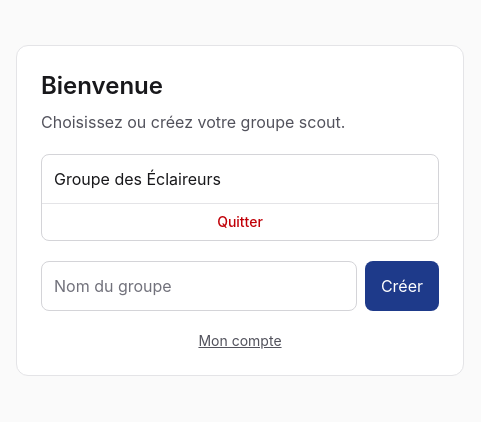
Test: Page principale › Quitter un groupe › affiche une confirmation avant de quitter un groupe
Click the button "Quitter": (240, 221) x1=42 y1=202 x2=438 y2=240
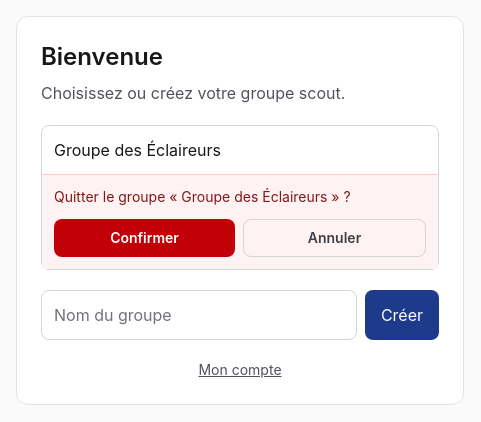
Expected: the text "Quitter le groupe « Groupe des Éclaireurs » ?" is shown, x1=54 y1=188 x2=351 y2=204
Click the button "Annuler": (334, 238) x1=243 y1=218 x2=426 y2=256
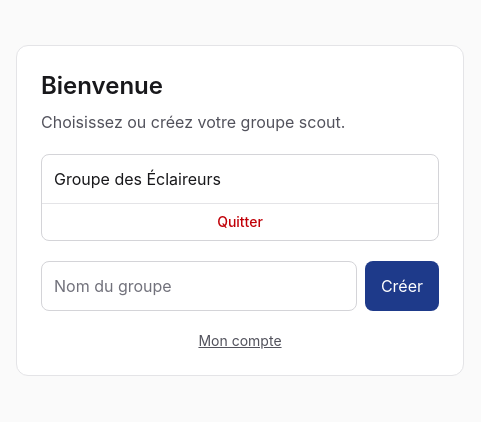
Expected: the text "Quitter le groupe « Groupe des Éclaireurs » ?" is gone
